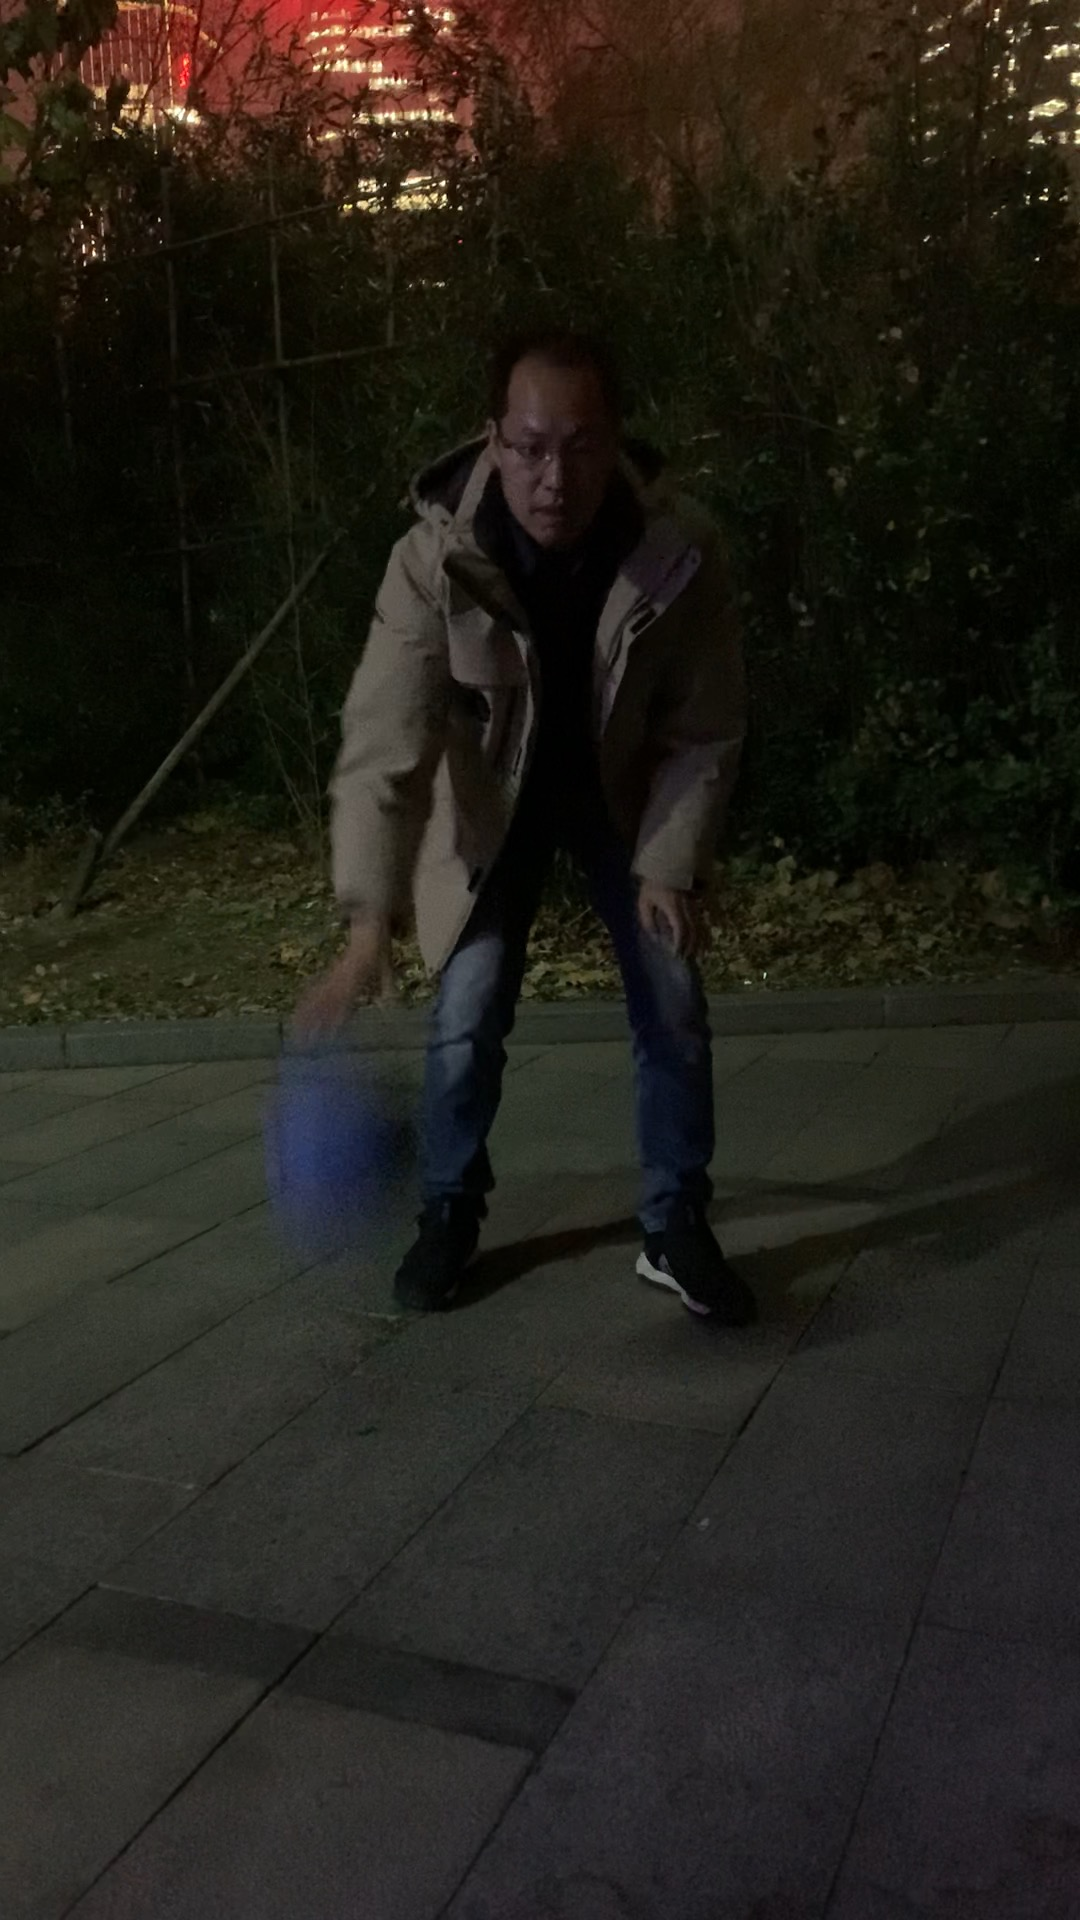ball: (264, 1059, 433, 1225)
